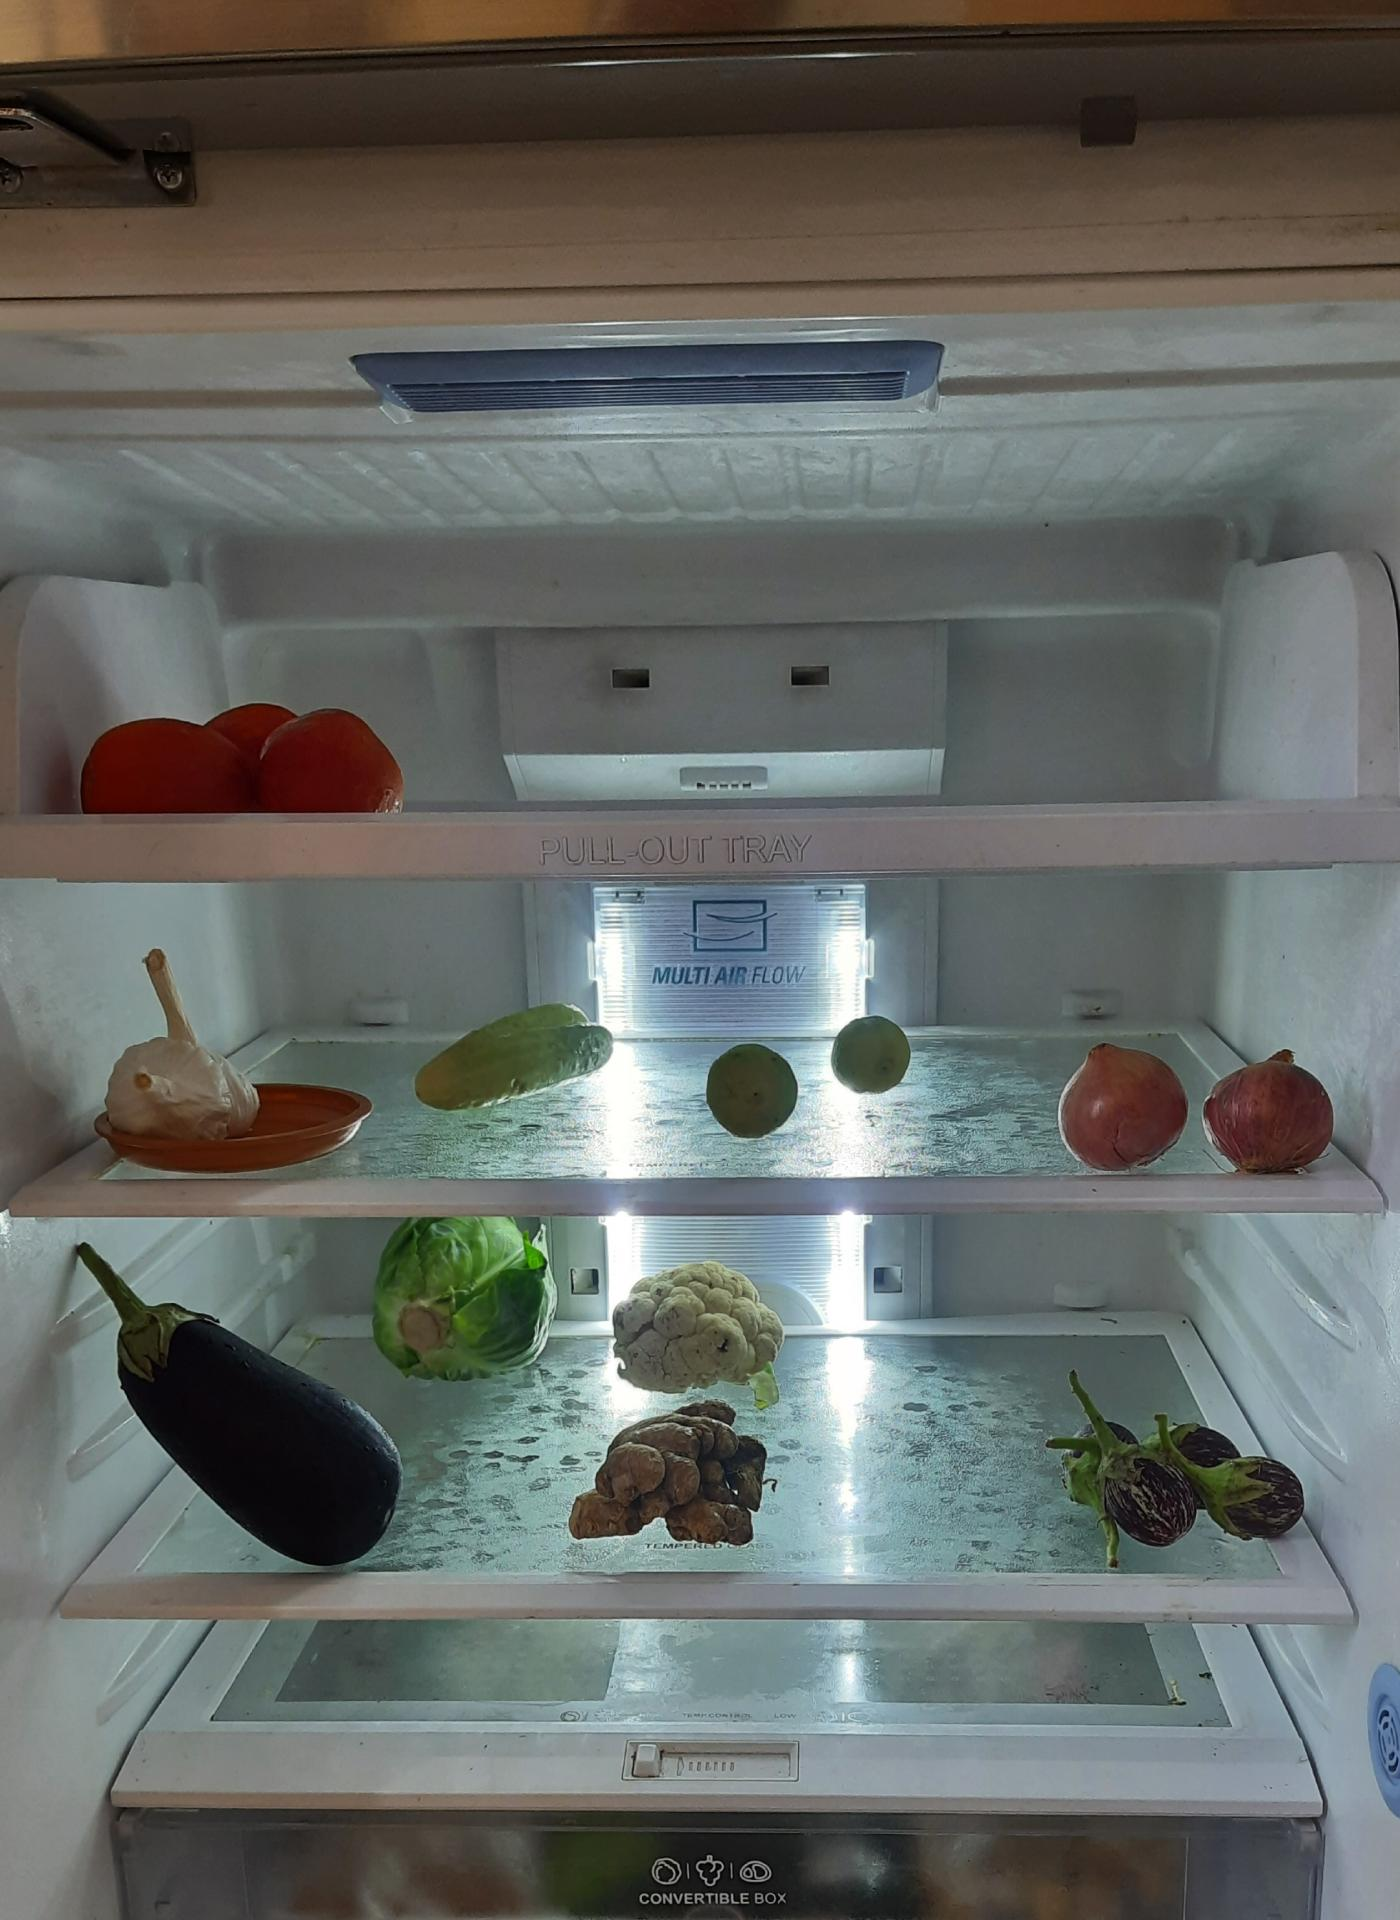brinjal: (52, 1243, 403, 1570), (1066, 1394, 1303, 1541)
cabbage: (376, 1218, 552, 1376)
cauliflower: (614, 1255, 801, 1394)
cucumber: (407, 1012, 631, 1108)
garlic: (78, 941, 267, 1133)
ginger: (584, 1386, 765, 1547)
lemon: (695, 1012, 904, 1134)
onion: (1078, 1040, 1333, 1161)
tomato: (106, 692, 414, 817)
